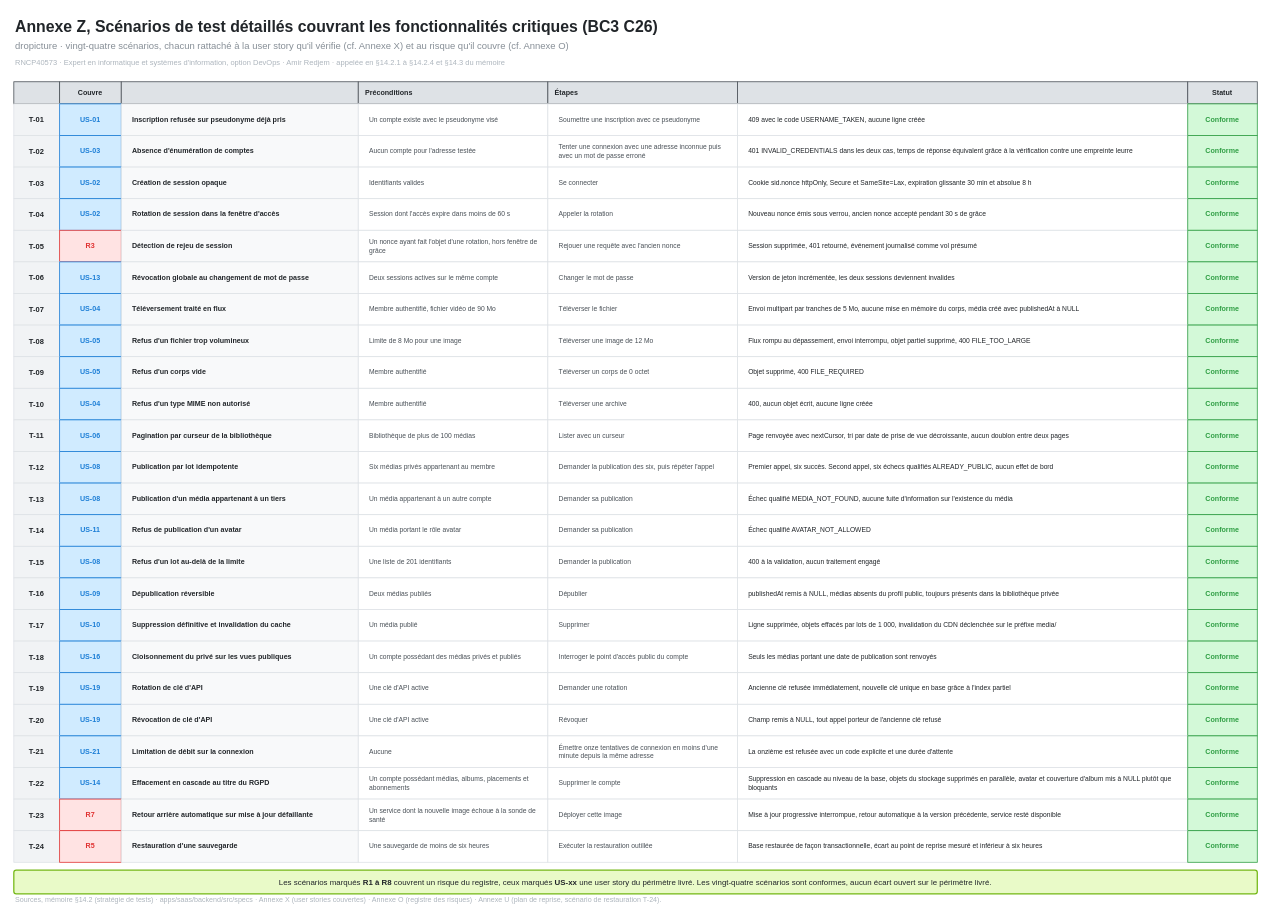
Image size: 1272x920. Some labels were removed from this diagram. The box of each missing label's shape, as (x1, y1, x2, y2) in pixels:
Objectif du scénario: (120, 81, 358, 104)
Réf.: (13, 81, 60, 104)
Résultat attendu: (737, 81, 1188, 104)
